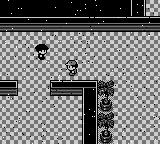main: (65, 61, 78, 75)
no-caminable: (1, 18, 159, 32), (1, 0, 131, 17), (98, 80, 114, 143), (83, 87, 97, 143), (50, 80, 98, 95), (131, 0, 146, 16), (0, 81, 17, 95)
npc: (35, 45, 49, 59)
